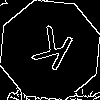K: (25, 25, 76, 81)
